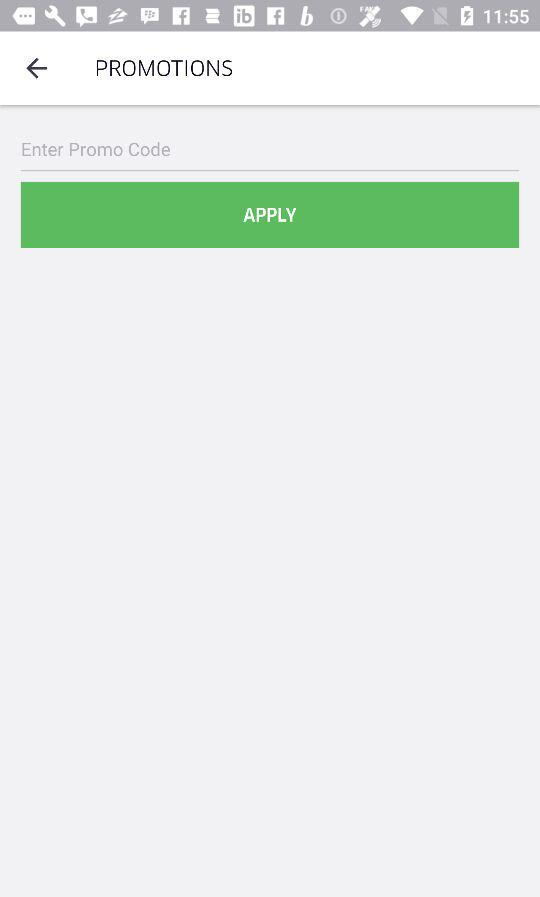EditText: (20, 141, 519, 173)
Icon: (27, 58, 49, 80)
Text: (97, 60, 233, 78), (22, 142, 171, 157)
TextButton: (22, 182, 520, 249)
Toolbar: (1, 32, 540, 107)
UpperTaskBar: (1, 1, 540, 33)
